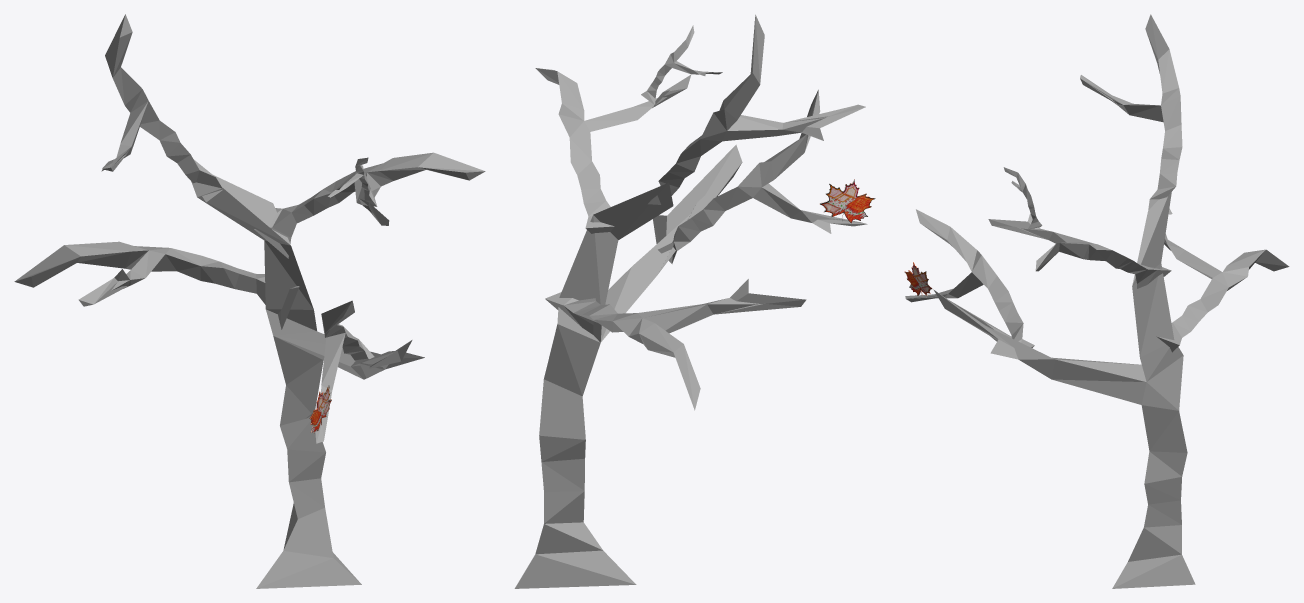
File: tree_1.fbx
3 views of the same model, side by side, from view 1: azimuth 30°, elevation 25°; view 2: azimuth 150°, elevation 25°; view 3: azimuth 270°, elevation 25° (orthographic). The views are drawn at different scales.
Visible parts, largest first — view 1: group8; view 2: group8, leaf3; view 3: group8, leaf3.
Part boxes in pixels (x1,y1,x2,y2): group8: (14,14,485,588); group8: (514,14,867,588); leaf3: (820,179,875,223); group8: (905,14,1289,588); leaf3: (904,262,932,295).
Size of the model in its own units: 2.47 by 4.01 by 2.85.
2 materials, 1 textured.
